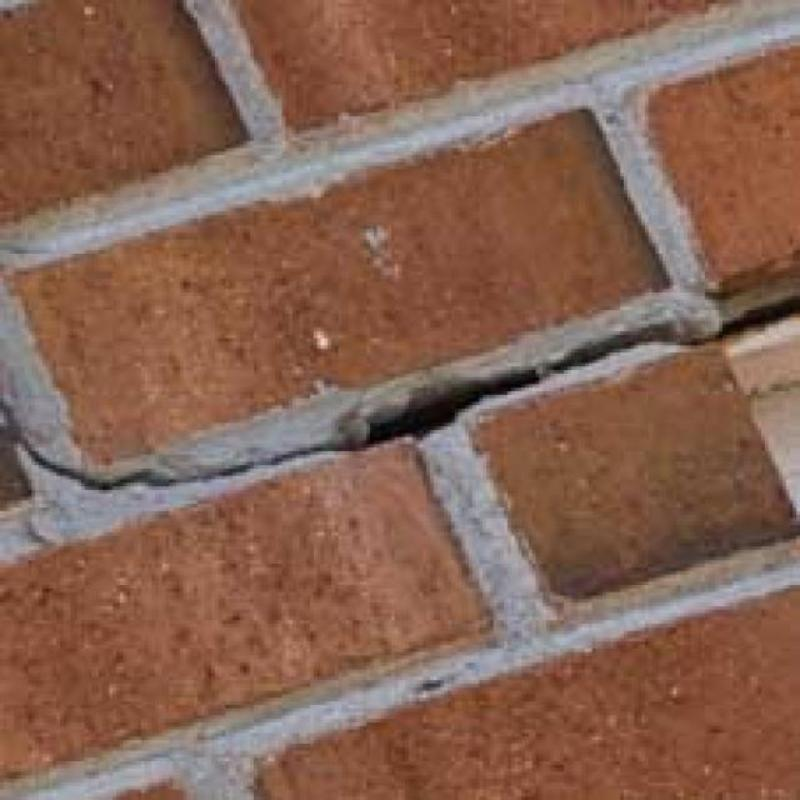pothole: (0, 295, 799, 492)
